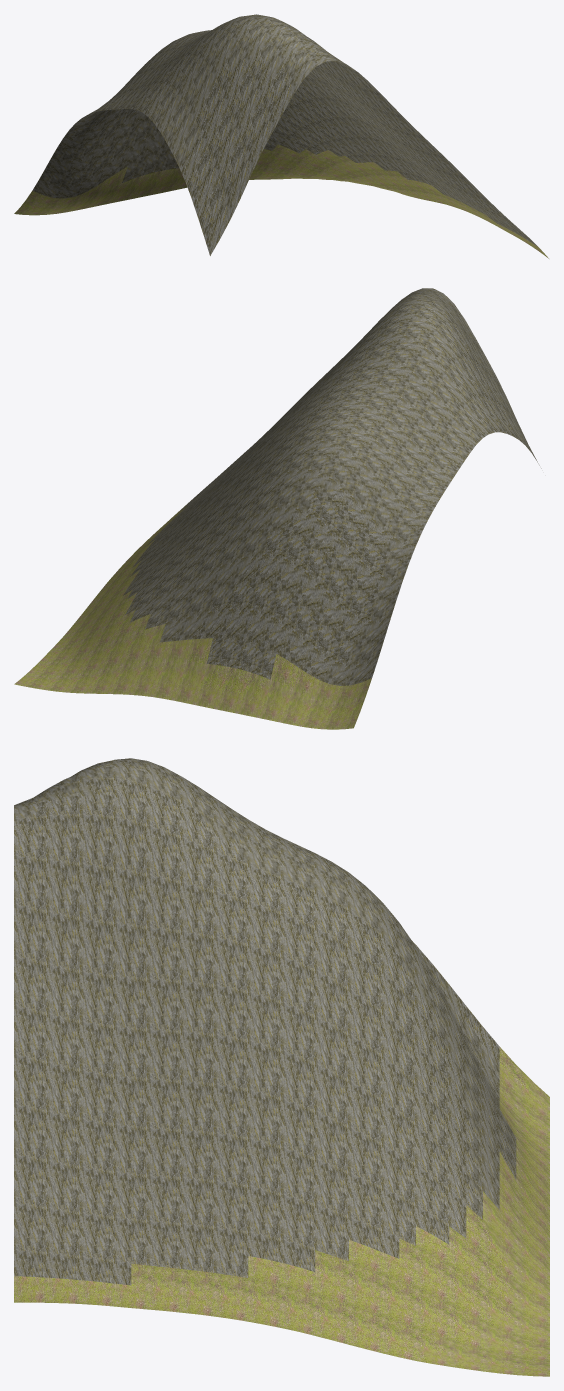
Rendered from chunk_2_0.glb.
3 views of the same model, one above another, from view 1: azimuth 30°, elevation 25°; view 2: azimuth 150°, elevation 25°; view 3: azimuth 270°, elevation 25° (orthographic). The views are drawn at different scales.
Visible parts, largest first — view 1: chunk_2_0-col; view 2: chunk_2_0-col; view 3: chunk_2_0-col.
Boxes of the visible parts, <box> form: chunk_2_0-col: <box>14,14,548,258</box>; chunk_2_0-col: <box>14,288,541,729</box>; chunk_2_0-col: <box>14,758,549,1376</box>.
Bounding box in the file's own units: 64 × 58.96 × 64.
Materials: 2 (2 with a texture image).
